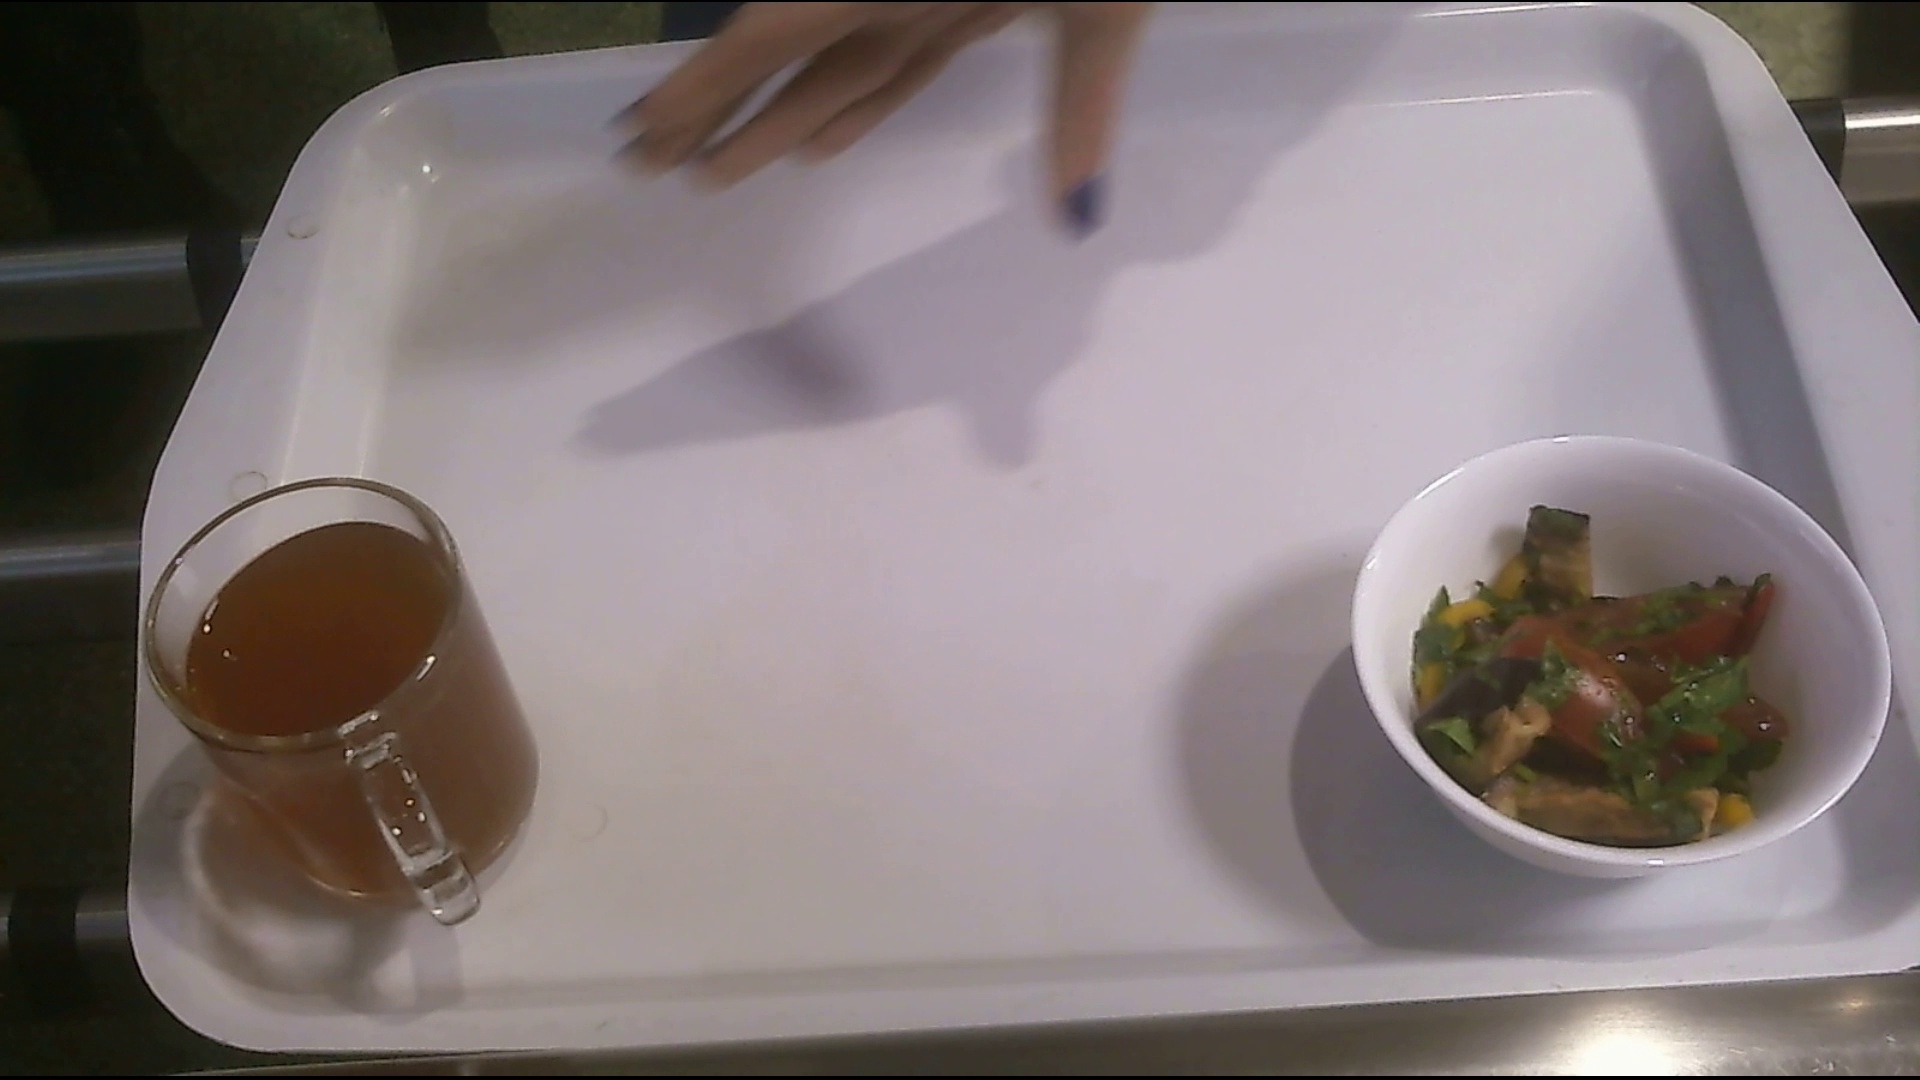bowl: (1356, 426, 1884, 870)
drink: (149, 487, 585, 942)
